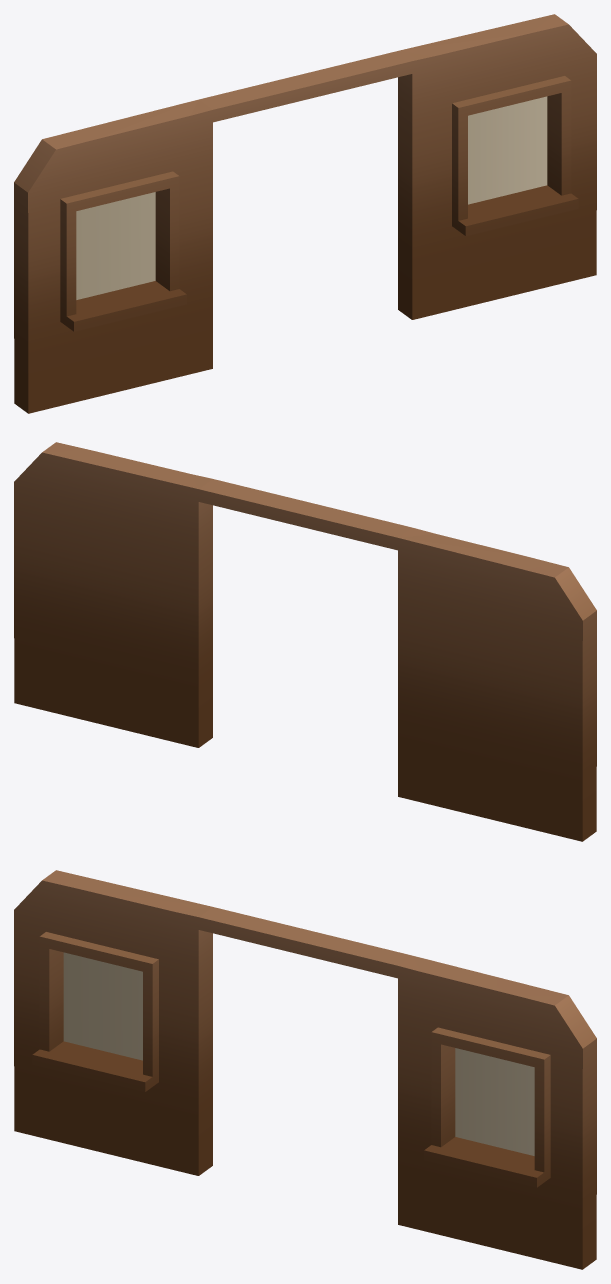
Rendered from Farmhouse_DoorFrame.gltf.
3 views of the same model, one above another, from view 1: azimuth 30°, elevation 25°; view 2: azimuth 150°, elevation 25°; view 3: azimuth 330°, elevation 25° (orthographic).
Visible parts, largest first — view 1: Farmhouse_DoorFrame; view 2: Farmhouse_DoorFrame; view 3: Farmhouse_DoorFrame.
Part boxes in pixels (left/top/right/bottom): Farmhouse_DoorFrame: left=14, top=14, right=596, bottom=413; Farmhouse_DoorFrame: left=14, top=442, right=596, bottom=841; Farmhouse_DoorFrame: left=14, top=870, right=596, bottom=1269.
Bounding box in the file's own units: 4.6 × 2 × 0.391.
Materials: 1 (1 with a texture image).
